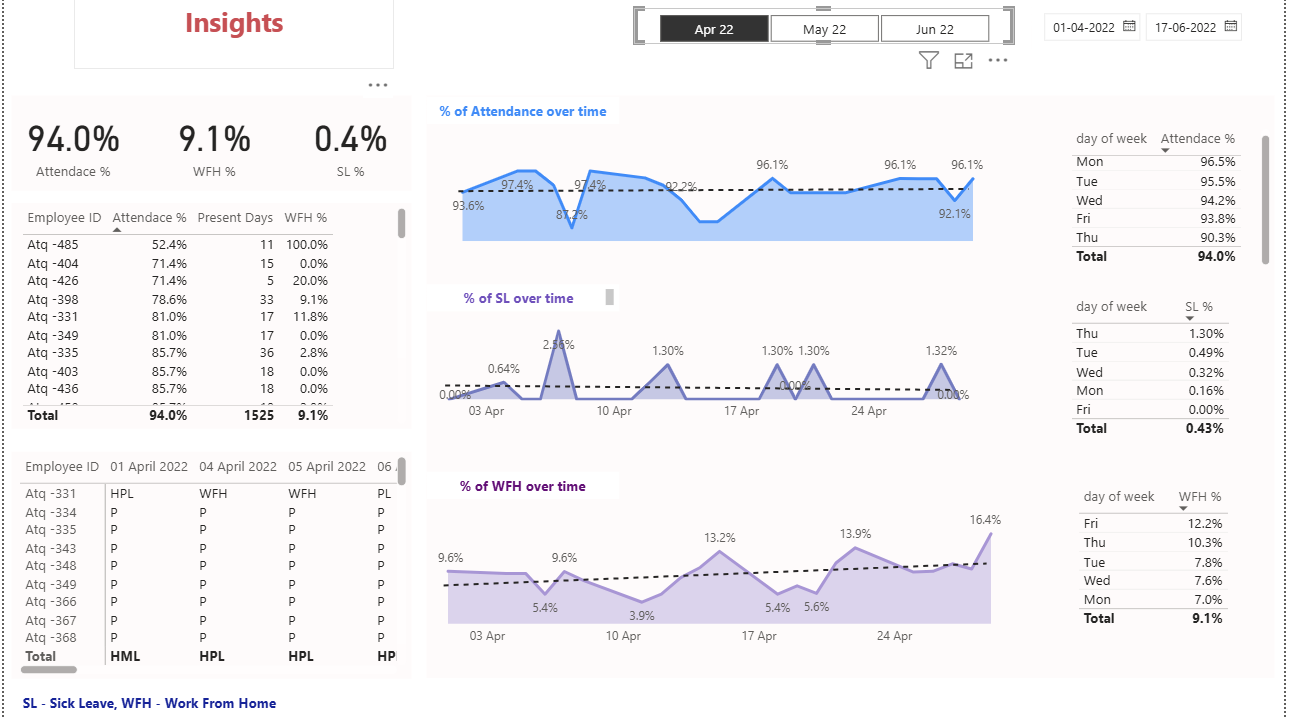

The page's visual inventory and layout, read from the dashboard file:
{"tool":"powerbi","page":{"name":"Presence Insights","canvas":[1280,720],"ordinal":0},"visuals":[{"type":"textbox","box":[7.8,205.6,399.9,225.5],"z":0},{"type":"textbox","box":[7.8,453.3,399.8,227.6],"z":1000},{"type":"textbox","box":[422.3,97.9,848.1,582.3],"z":2000},{"type":"textbox","box":[7.8,98,399.9,95.4],"z":3000},{"type":"tableEx","fields":{"Values":["Final Data.Employee ID","Measures (2).Attendace %","Measures (2).Present Days","Measures (2).WFH %"]},"box":[12.6,205.2,394.9,225.7],"z":4000},{"type":"slicer","fields":{"Values":["Final Data.Date"]},"box":[1027.3,5.2,252.7,46.3],"z":5000},{"type":"slicer","fields":{"Values":["Final Data.MMM YY"]},"box":[630.4,10.5,379.5,35.8],"z":6000},{"type":"areaChart","fields":{"Category":["Final Data.MMM YY","Final Data.Date"],"Y":["Measures (2).WFH %"]},"box":[420.7,502.3,589,153.5],"z":7000},{"type":"areaChart","fields":{"Category":["Final Data.WeekNo","Final Data.Date"],"Y":["Measures (2).Attendace %"]},"box":[444.1,144.9,540.4,103.2],"z":8000},{"type":"card","fields":{"Values":["Measures (2).Attendace %"]},"box":[7.8,98,124,96.3],"z":9000},{"type":"card","fields":{"Values":["Measures (2).WFH %"]},"box":[141.4,98,138.8,96.3],"z":10000},{"type":"areaChart","fields":{"Category":["Final Data.MMM YY","Final Data.Date"],"Y":["Measures (2).SL %"]},"box":[422.5,307.1,556,124],"z":11000},{"type":"card","fields":{"Values":["Measures (2).SL %"]},"box":[286.3,97.2,121.4,96.3],"z":13000},{"type":"textbox","box":[70.3,0,320.1,71.1],"z":14000},{"type":"textbox","box":[422.4,98.2,192.5,27.5],"z":15000},{"type":"textbox","box":[422.5,286.3,192.6,26.9],"z":16000},{"type":"textbox","box":[422.1,473.7,192.6,27.2],"z":17000},{"type":"pivotTable","fields":{"Rows":["Final Data.Employee ID"],"Columns":["Final Data.Date"],"Values":["Min(Final Data.Value)"]},"box":[11.7,453.3,395.9,227.6],"z":18000},{"type":"textbox","box":[13.6,691.6,289.8,28.2],"z":19000},{"type":"tableEx","fields":{"Values":["Final Data.day of week","Measures (2).Attendace %"]},"box":[1060.9,125.8,209.9,145.7],"z":20000},{"type":"tableEx","fields":{"Values":["Final Data.day of week","Measures (2).SL %"]},"box":[1060.9,294.1,191.7,167.4],"z":21000},{"type":"tableEx","fields":{"Values":["Final Data.day of week","Measures (2).WFH %"]},"box":[1068.7,483.2,170,167.4],"z":22000}]}

Visuals, with their boxes in screenshot pixels (x1, y1, x2, y2), scaled from the page's 1280x720 canvas onto the 1292x718 screenshot:
textbox: (left=8, top=205, right=412, bottom=430)
textbox: (left=8, top=452, right=411, bottom=679)
textbox: (left=426, top=98, right=1282, bottom=678)
textbox: (left=8, top=98, right=412, bottom=193)
tableEx - Final Data.Employee ID x Measures (2).Attendace %: (left=13, top=205, right=411, bottom=430)
slicer - Final Data.Date: (left=1037, top=5, right=1291, bottom=51)
slicer - Final Data.MMM YY: (left=636, top=10, right=1019, bottom=46)
areaChart - Final Data.MMM YY x Final Data.Date: (left=425, top=501, right=1019, bottom=654)
areaChart - Final Data.WeekNo x Final Data.Date: (left=448, top=144, right=994, bottom=247)
card - Measures (2).Attendace %: (left=8, top=98, right=133, bottom=194)
card - Measures (2).WFH %: (left=143, top=98, right=283, bottom=194)
areaChart - Final Data.MMM YY x Final Data.Date: (left=426, top=306, right=988, bottom=430)
card - Measures (2).SL %: (left=289, top=97, right=412, bottom=193)
textbox: (left=71, top=0, right=394, bottom=71)
textbox: (left=426, top=98, right=621, bottom=125)
textbox: (left=426, top=286, right=621, bottom=312)
textbox: (left=426, top=472, right=620, bottom=500)
pivotTable - Final Data.Employee ID x Final Data.Date: (left=12, top=452, right=411, bottom=679)
textbox: (left=14, top=690, right=306, bottom=717)
tableEx - Final Data.day of week x Measures (2).Attendace %: (left=1071, top=125, right=1283, bottom=271)
tableEx - Final Data.day of week x Measures (2).SL %: (left=1071, top=293, right=1264, bottom=460)
tableEx - Final Data.day of week x Measures (2).WFH %: (left=1079, top=482, right=1250, bottom=649)
